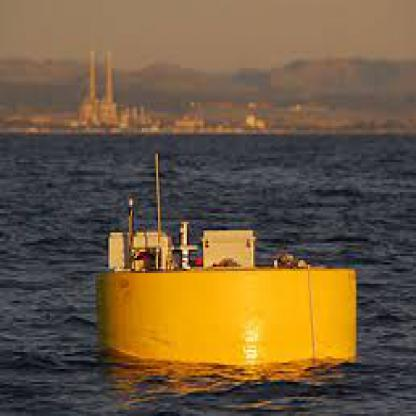buoy: (92, 147, 364, 378)
